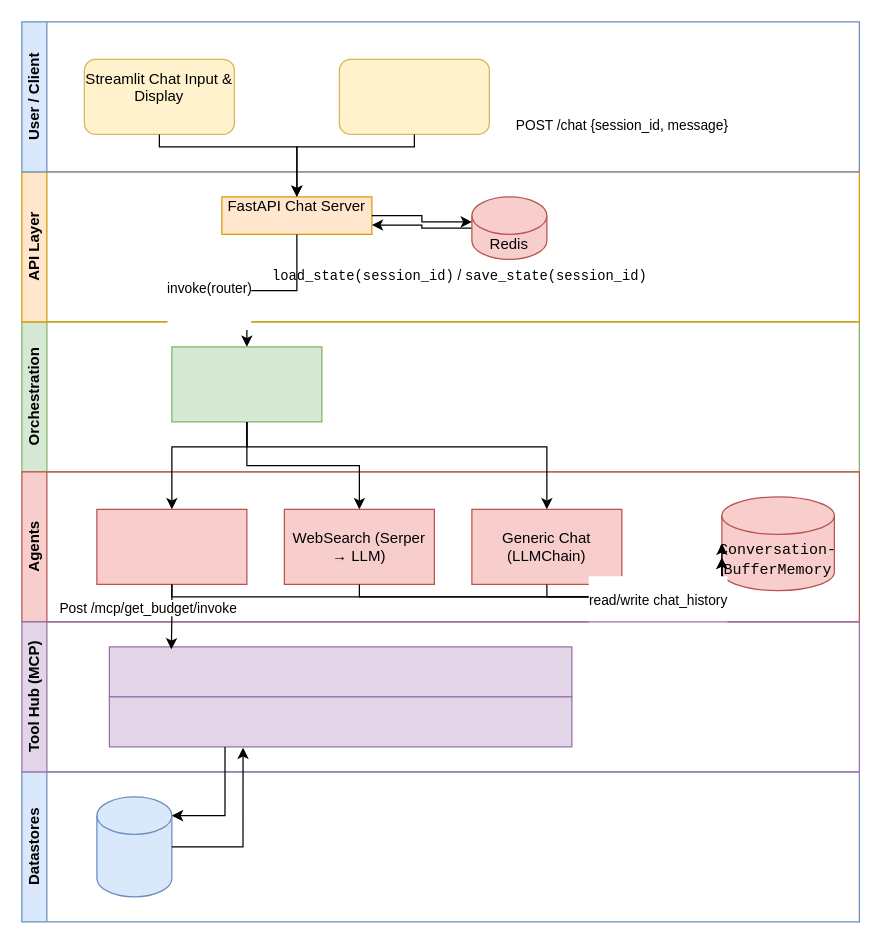
Some shapes in this 881 by 944 pixel diagram are drawn without their labels. The shapes that lost their labels are listed below. From the top down, each one's centre as x and y in pixels, then its label:
At point 413,96: "CLI Prompt Loop".
At point 246,384: "LangGraph Router Node".
At point 171,546: "BudgetRecommender (Functions Agent)".
At point 340,671: "GET /mcp/get_budget/{schema,invoke}".
At point 340,721: "POST /mcp/save_proposal/{schema,invoke}".
At point 134,846: "Snowflake".
